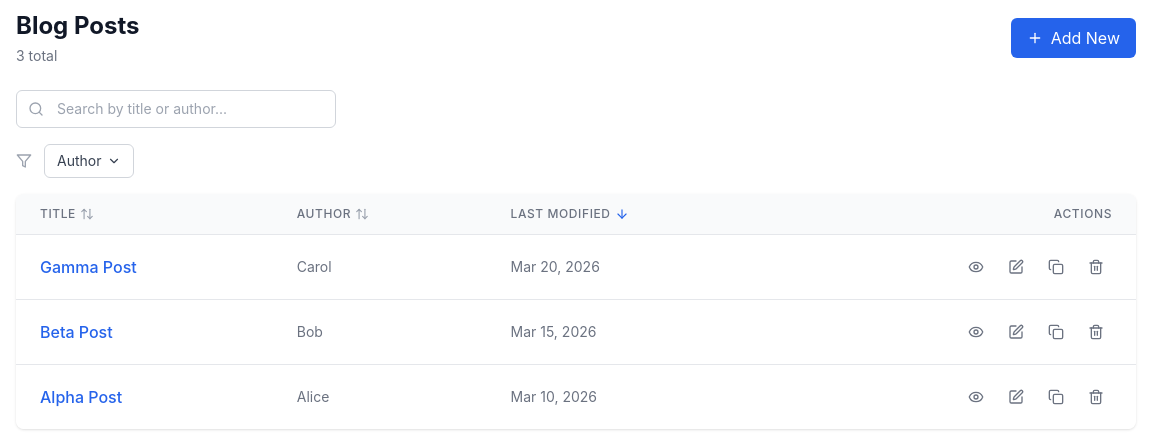
EntityListPage › search input filters by author too
This screenshot has width=1152, height=447.
Type "Bob" into the field with test id "search-input" at (176, 109), box [16,90,336,128]
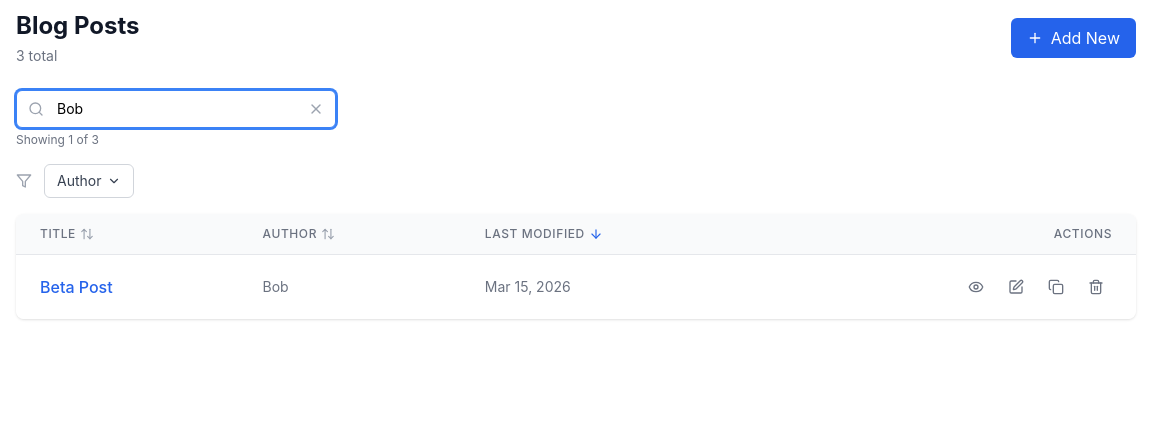
Check: the link "Beta Post" is shown, box [40,275,113,299]
Check: the link "Alpha Post" is gone
